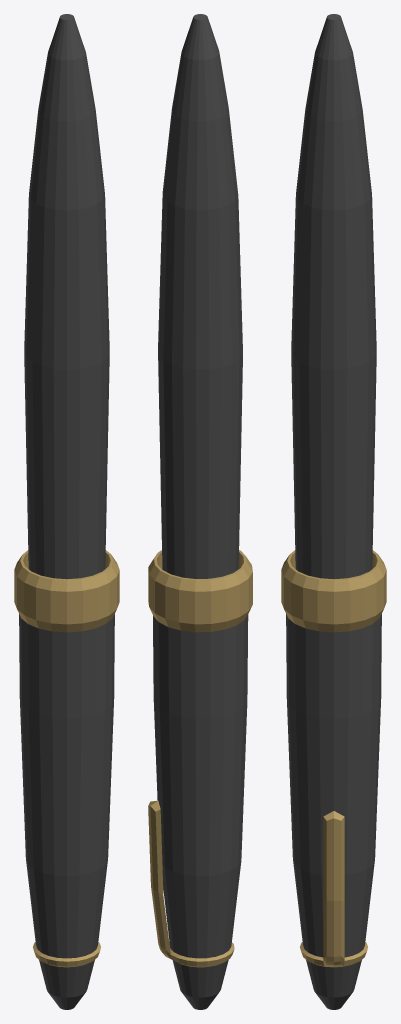
File: pen2 closed.fbx
3 views of the same model, side by side, from view 1: azimuth 90°, elevation 25°; view 2: azimuth 210°, elevation 25°; view 3: azimuth 270°, elevation 25° (orthographic).
Parts seen in each view (by area): view 1: polySurface4; view 2: polySurface4; view 3: polySurface4.
Part boxes in pixels (x1=…): polySurface4: x1=14, y1=14, x2=119, y2=1009; polySurface4: x1=148, y1=14, x2=252, y2=1009; polySurface4: x1=281, y1=14, x2=386, y2=1009.
Bounding box in the file's own units: 1.68 × 16.58 × 1.6.
